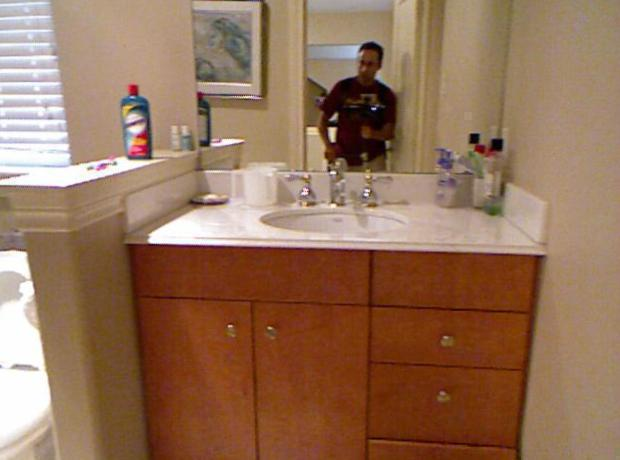Lavamanos: (254, 157, 417, 253)
Sanitario: (1, 247, 65, 458)
